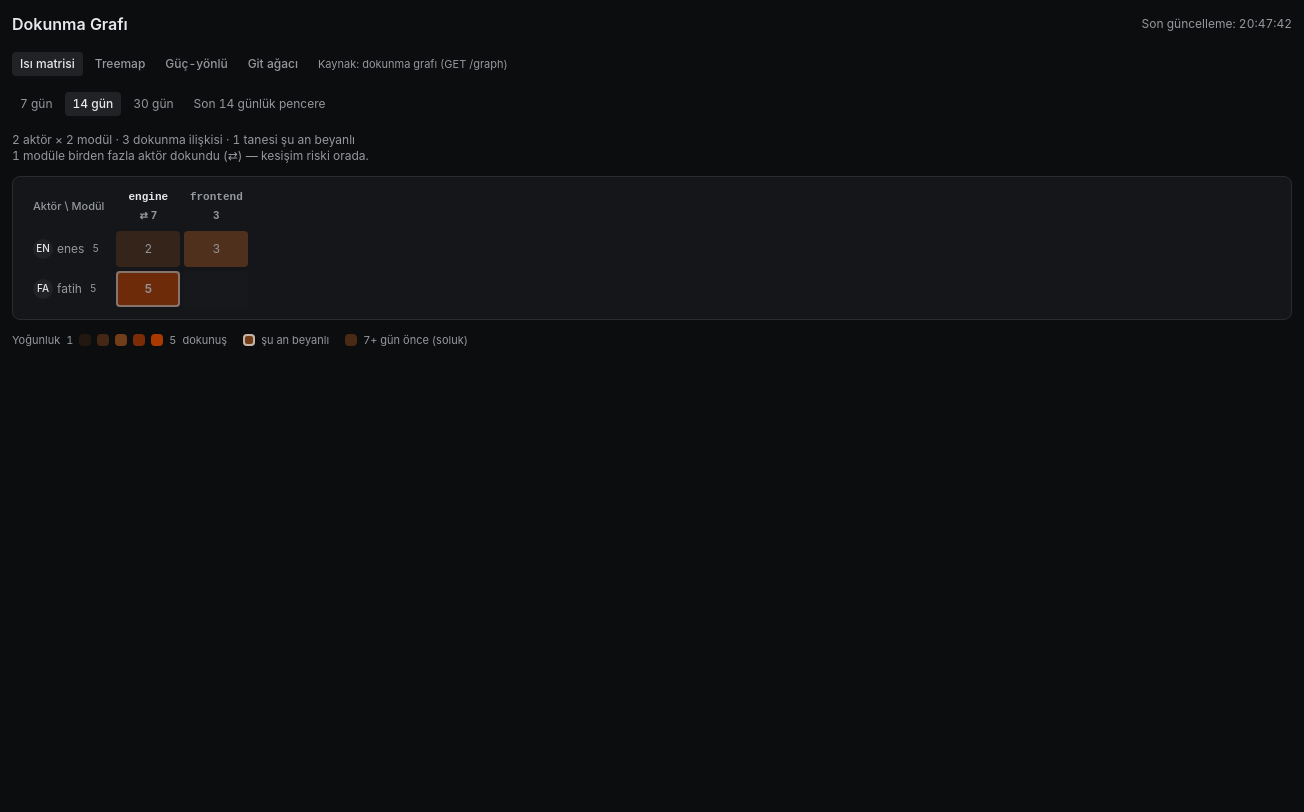
it: GraphPage — görünüm modu seçici (#130) › dört mod da sekme ailesinde ve hiçbiri ölü değil (gate kalktı — #130)
Expected: the tab "Isı matrisi" is shown, [12,52,83,76]
Expected: the tab "Treemap" is shown, [87,52,153,76]
Click the tab "Güç-yönlü" at (196, 64), box [157,52,236,76]
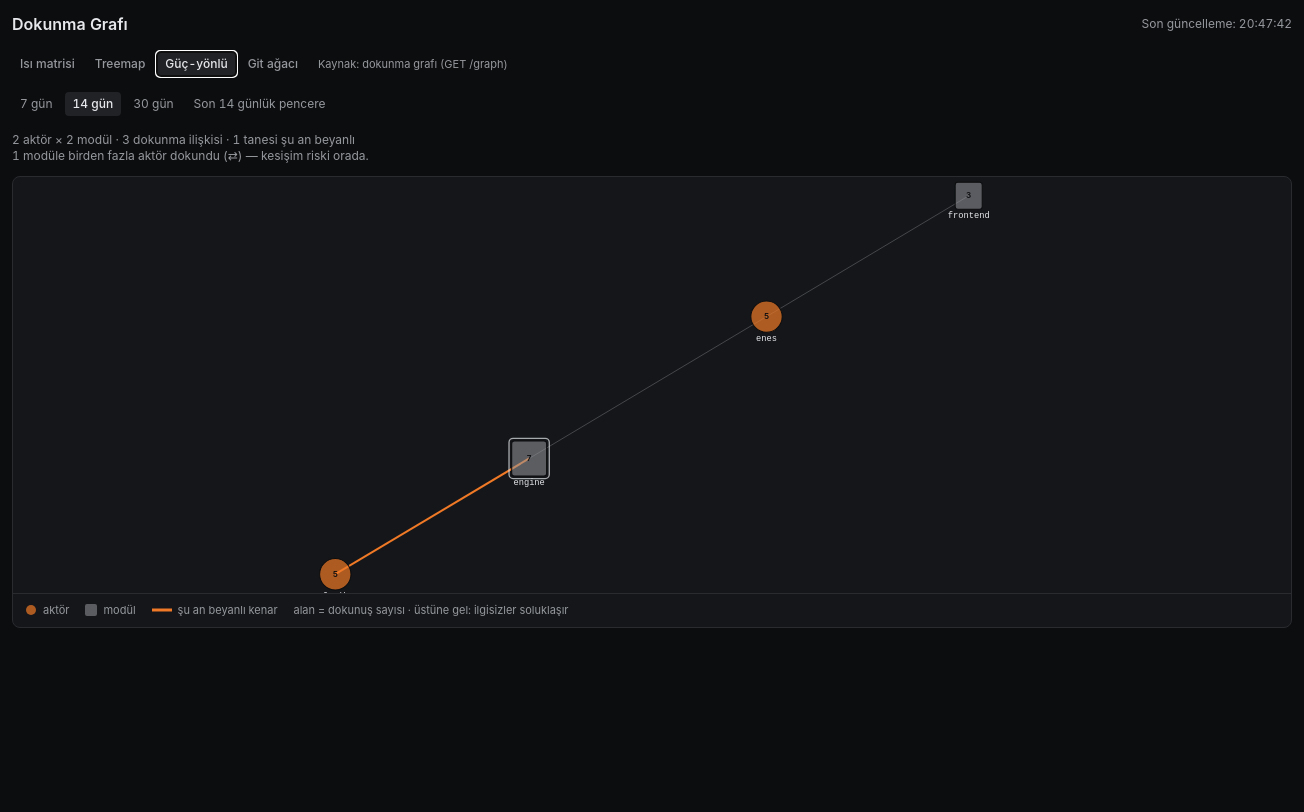
Now the icon named "güç-yönlü dokunma grafı" is shown, box [13,177,1291,593]
